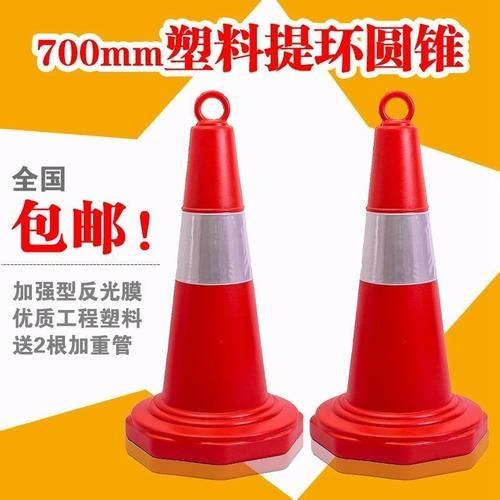cone_barrel: (130, 94, 293, 472), (317, 112, 477, 478)
